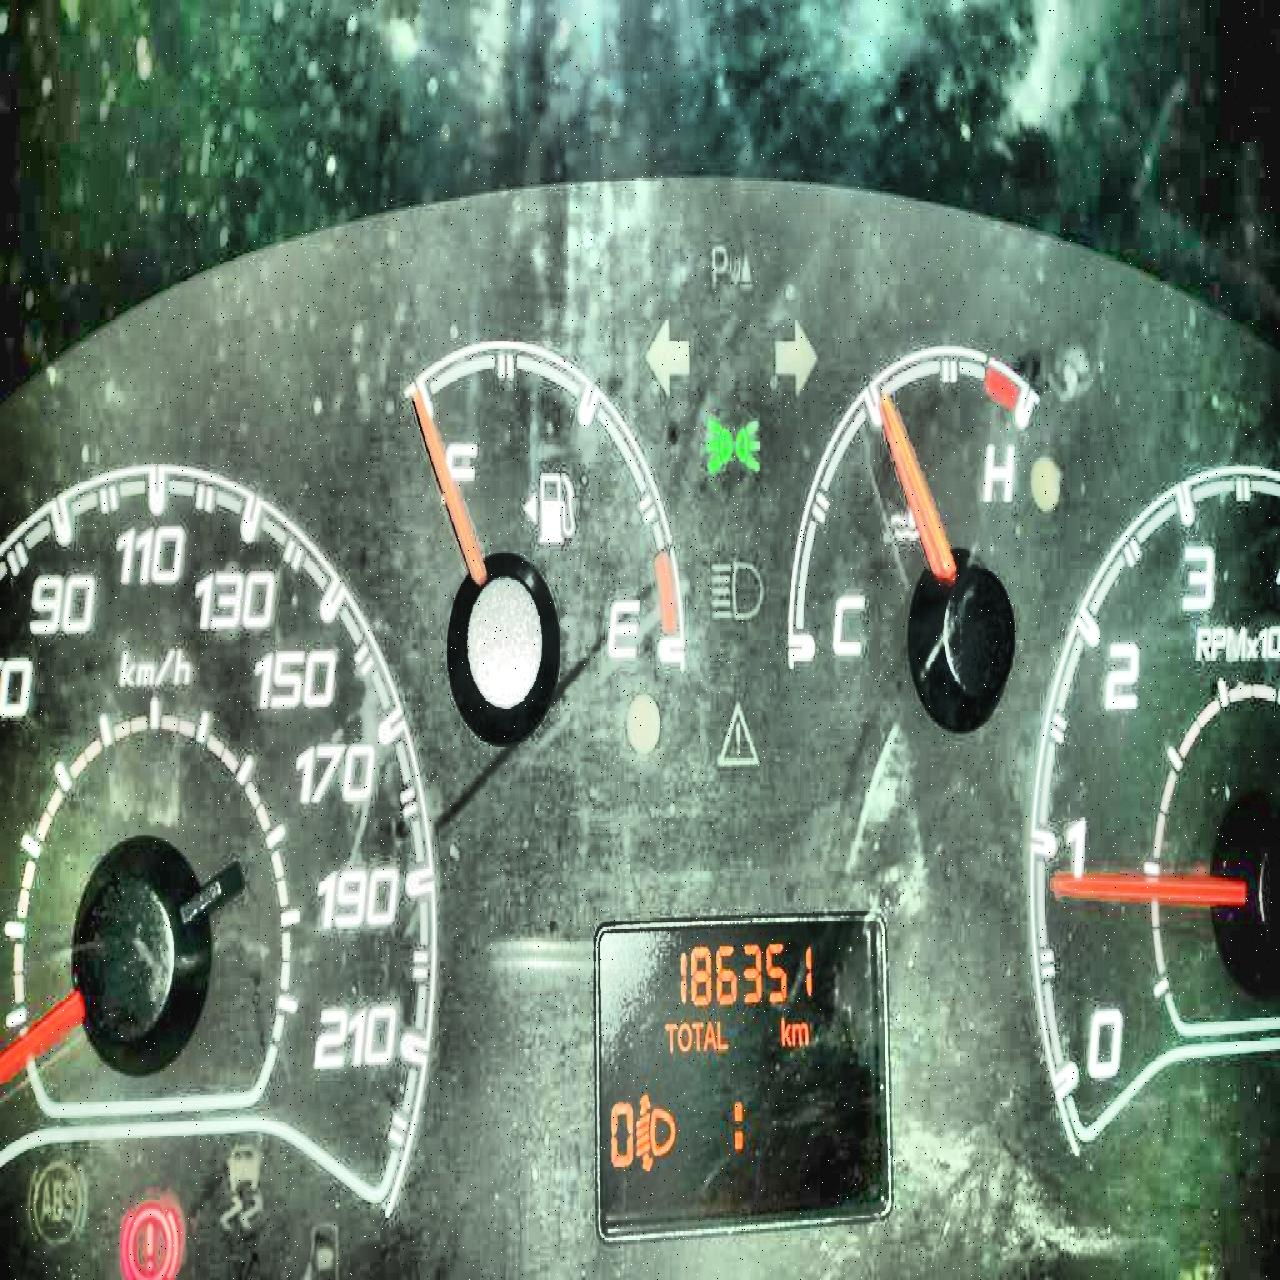0: (607, 1095, 635, 1169)
1: (676, 946, 688, 1005), (803, 940, 813, 998)
3: (738, 940, 763, 1005)
5: (763, 938, 789, 1002)
6: (714, 940, 738, 1007)
8: (688, 940, 713, 1007)
X: (730, 1092, 744, 1151), (660, 1015, 678, 1054), (790, 1015, 809, 1047), (688, 1015, 702, 1054), (676, 1017, 690, 1054), (715, 1017, 729, 1051), (703, 1015, 715, 1054), (778, 1009, 790, 1047)
odometer: (590, 905, 894, 1251)
